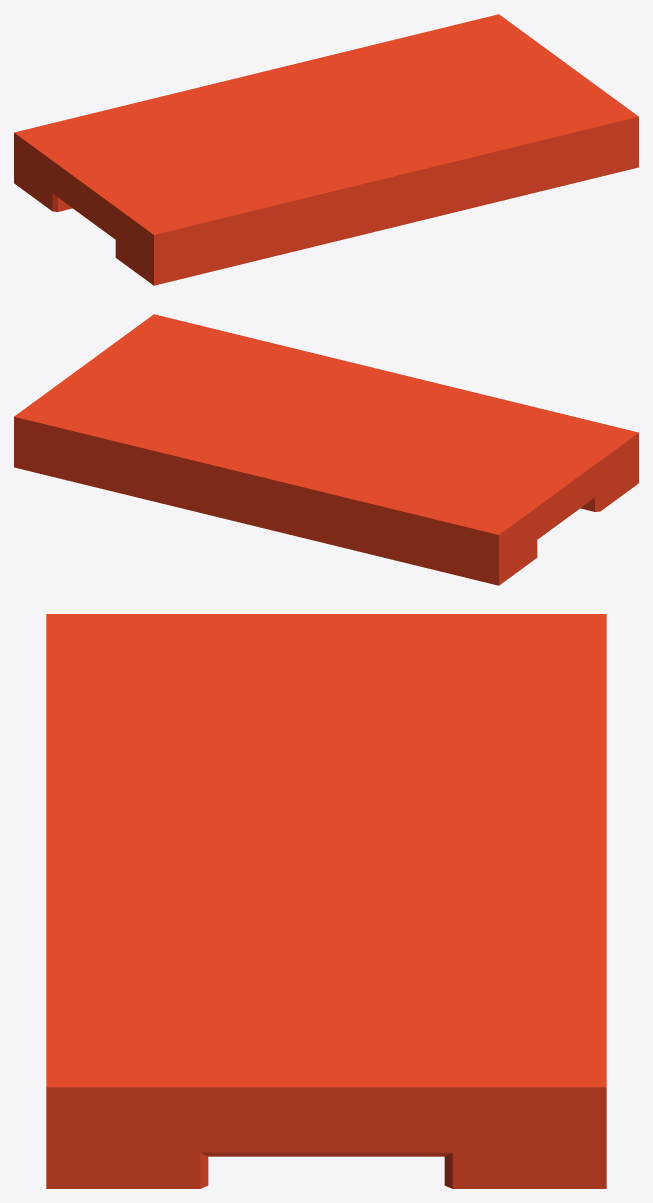
Rendered from SM_Skate_Pad_City.fbx.
3 views of the same model, one above another, from view 1: azimuth 30°, elevation 25°; view 2: azimuth 150°, elevation 25°; view 3: azimuth 270°, elevation 25° (orthographic). The views are drawn at different scales.
Visible parts, largest first — view 1: SM_Skate_Pad_City; view 2: SM_Skate_Pad_City; view 3: SM_Skate_Pad_City.
Boxes of the visible parts, box(x1,y1,x2,y2) form: SM_Skate_Pad_City: box(14, 14, 638, 285); SM_Skate_Pad_City: box(14, 314, 638, 585); SM_Skate_Pad_City: box(46, 614, 606, 1188).
Bounding box in the file's own units: 2 × 0.2 × 1.
